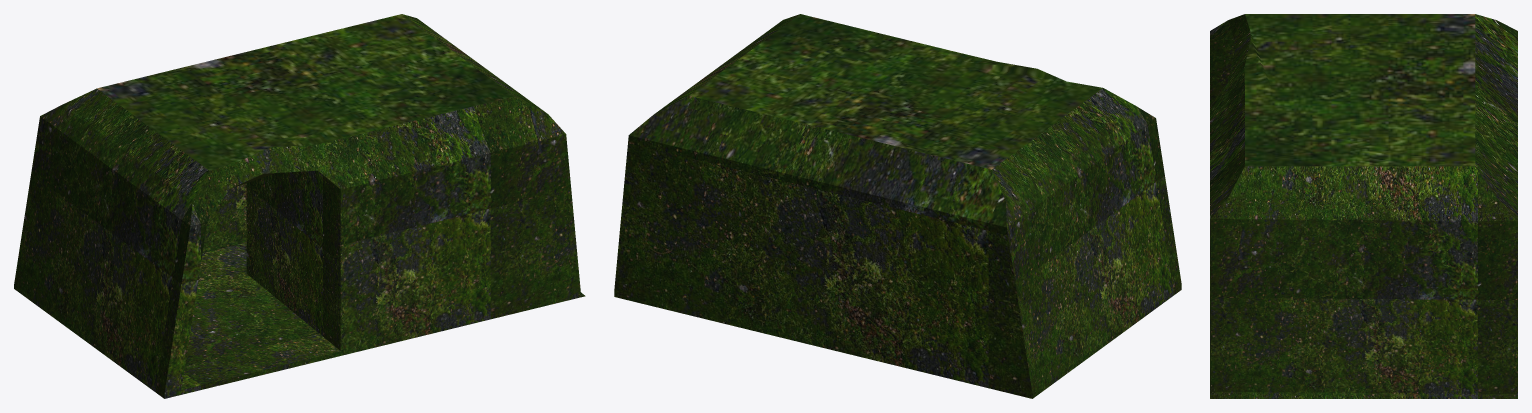
The model's file is MossyCave.fbx.
The picture shows the model from 3 angles, left to right: view 1: azimuth 30°, elevation 25°; view 2: azimuth 150°, elevation 25°; view 3: azimuth 270°, elevation 25°; orthographic projection. The views are drawn at different scales.
Parts seen in each view (by area): view 1: Cube; view 2: Cube; view 3: Cube.
Part boxes in pixels (left/top/right/bottom): Cube: left=14, top=14, right=585, bottom=398; Cube: left=614, top=14, right=1181, bottom=398; Cube: left=1210, top=14, right=1517, bottom=398.
Size of the model in its own units: 16.09 by 7.53 by 9.95.
